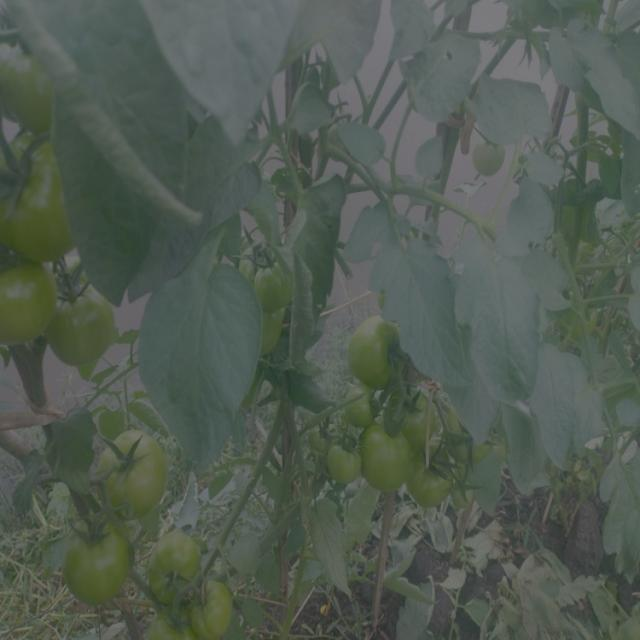tomato: (1, 132, 94, 258), (100, 429, 173, 517), (242, 249, 295, 355), (62, 522, 130, 601), (1, 49, 67, 124), (1, 265, 52, 361), (353, 314, 407, 388), (63, 301, 116, 362), (364, 429, 410, 495), (154, 532, 194, 593), (442, 412, 491, 457), (149, 601, 198, 640), (204, 578, 237, 631), (423, 460, 457, 511), (394, 391, 439, 424), (473, 139, 511, 178), (342, 394, 375, 427), (335, 439, 358, 486), (307, 421, 333, 449)
